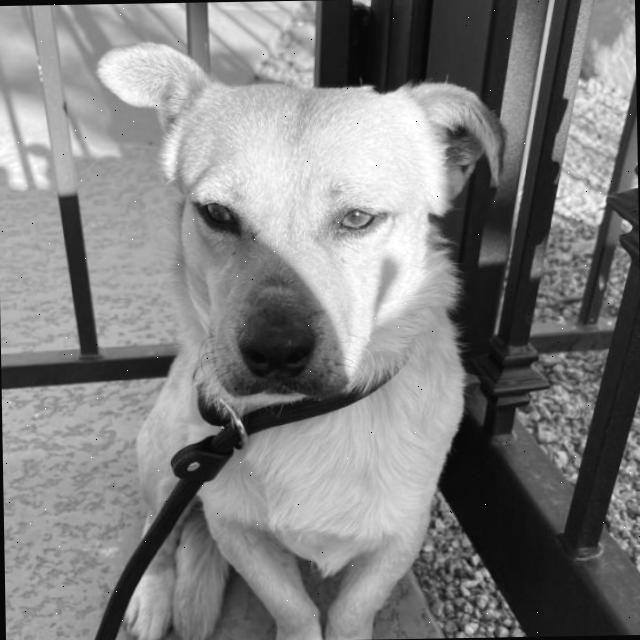corgi_dog: (86, 20, 520, 424)
